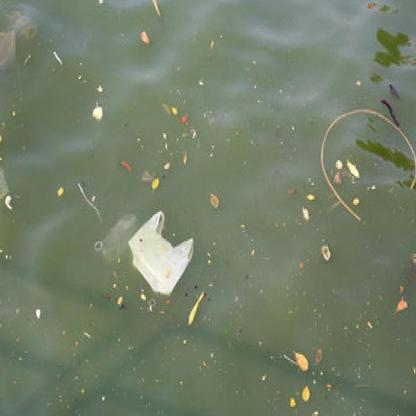plastic bag: (129, 211, 195, 295)
